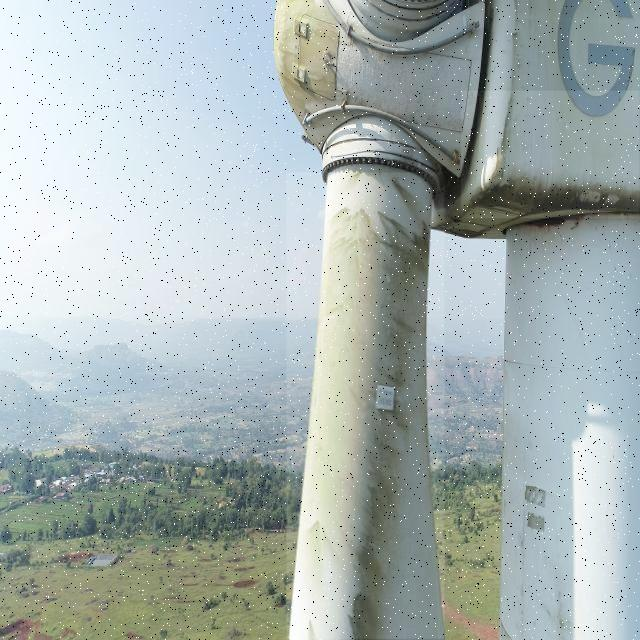Dirt: (297, 169, 445, 640)
